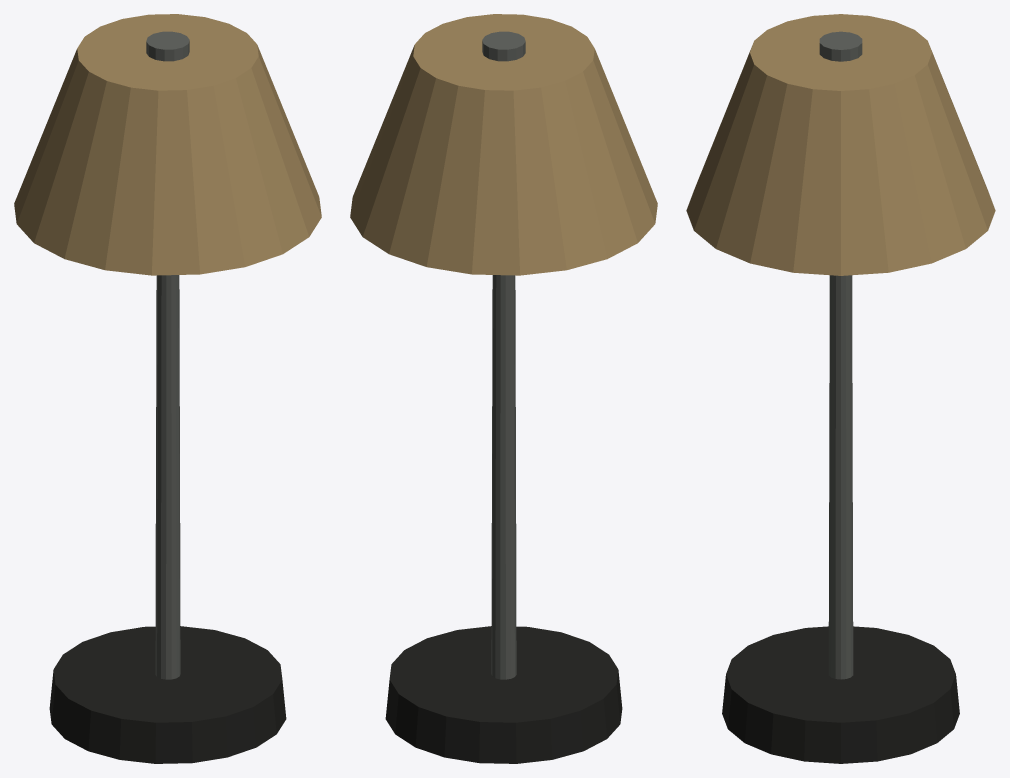
The model's file is lampara_pie_98.obj.
The picture shows the model from 3 angles, left to right: view 1: azimuth 30°, elevation 25°; view 2: azimuth 150°, elevation 25°; view 3: azimuth 270°, elevation 25°; orthographic projection.
Parts seen in each view (by area): view 1: lampara_pie_98; view 2: lampara_pie_98; view 3: lampara_pie_98.
Boxes of the visible parts, x1=… form: lampara_pie_98: x1=14, y1=14, x2=321, y2=763; lampara_pie_98: x1=350, y1=14, x2=657, y2=763; lampara_pie_98: x1=686, y1=14, x2=995, y2=763.
Size of the model in its own units: 0.78 by 1.87 by 0.78.
